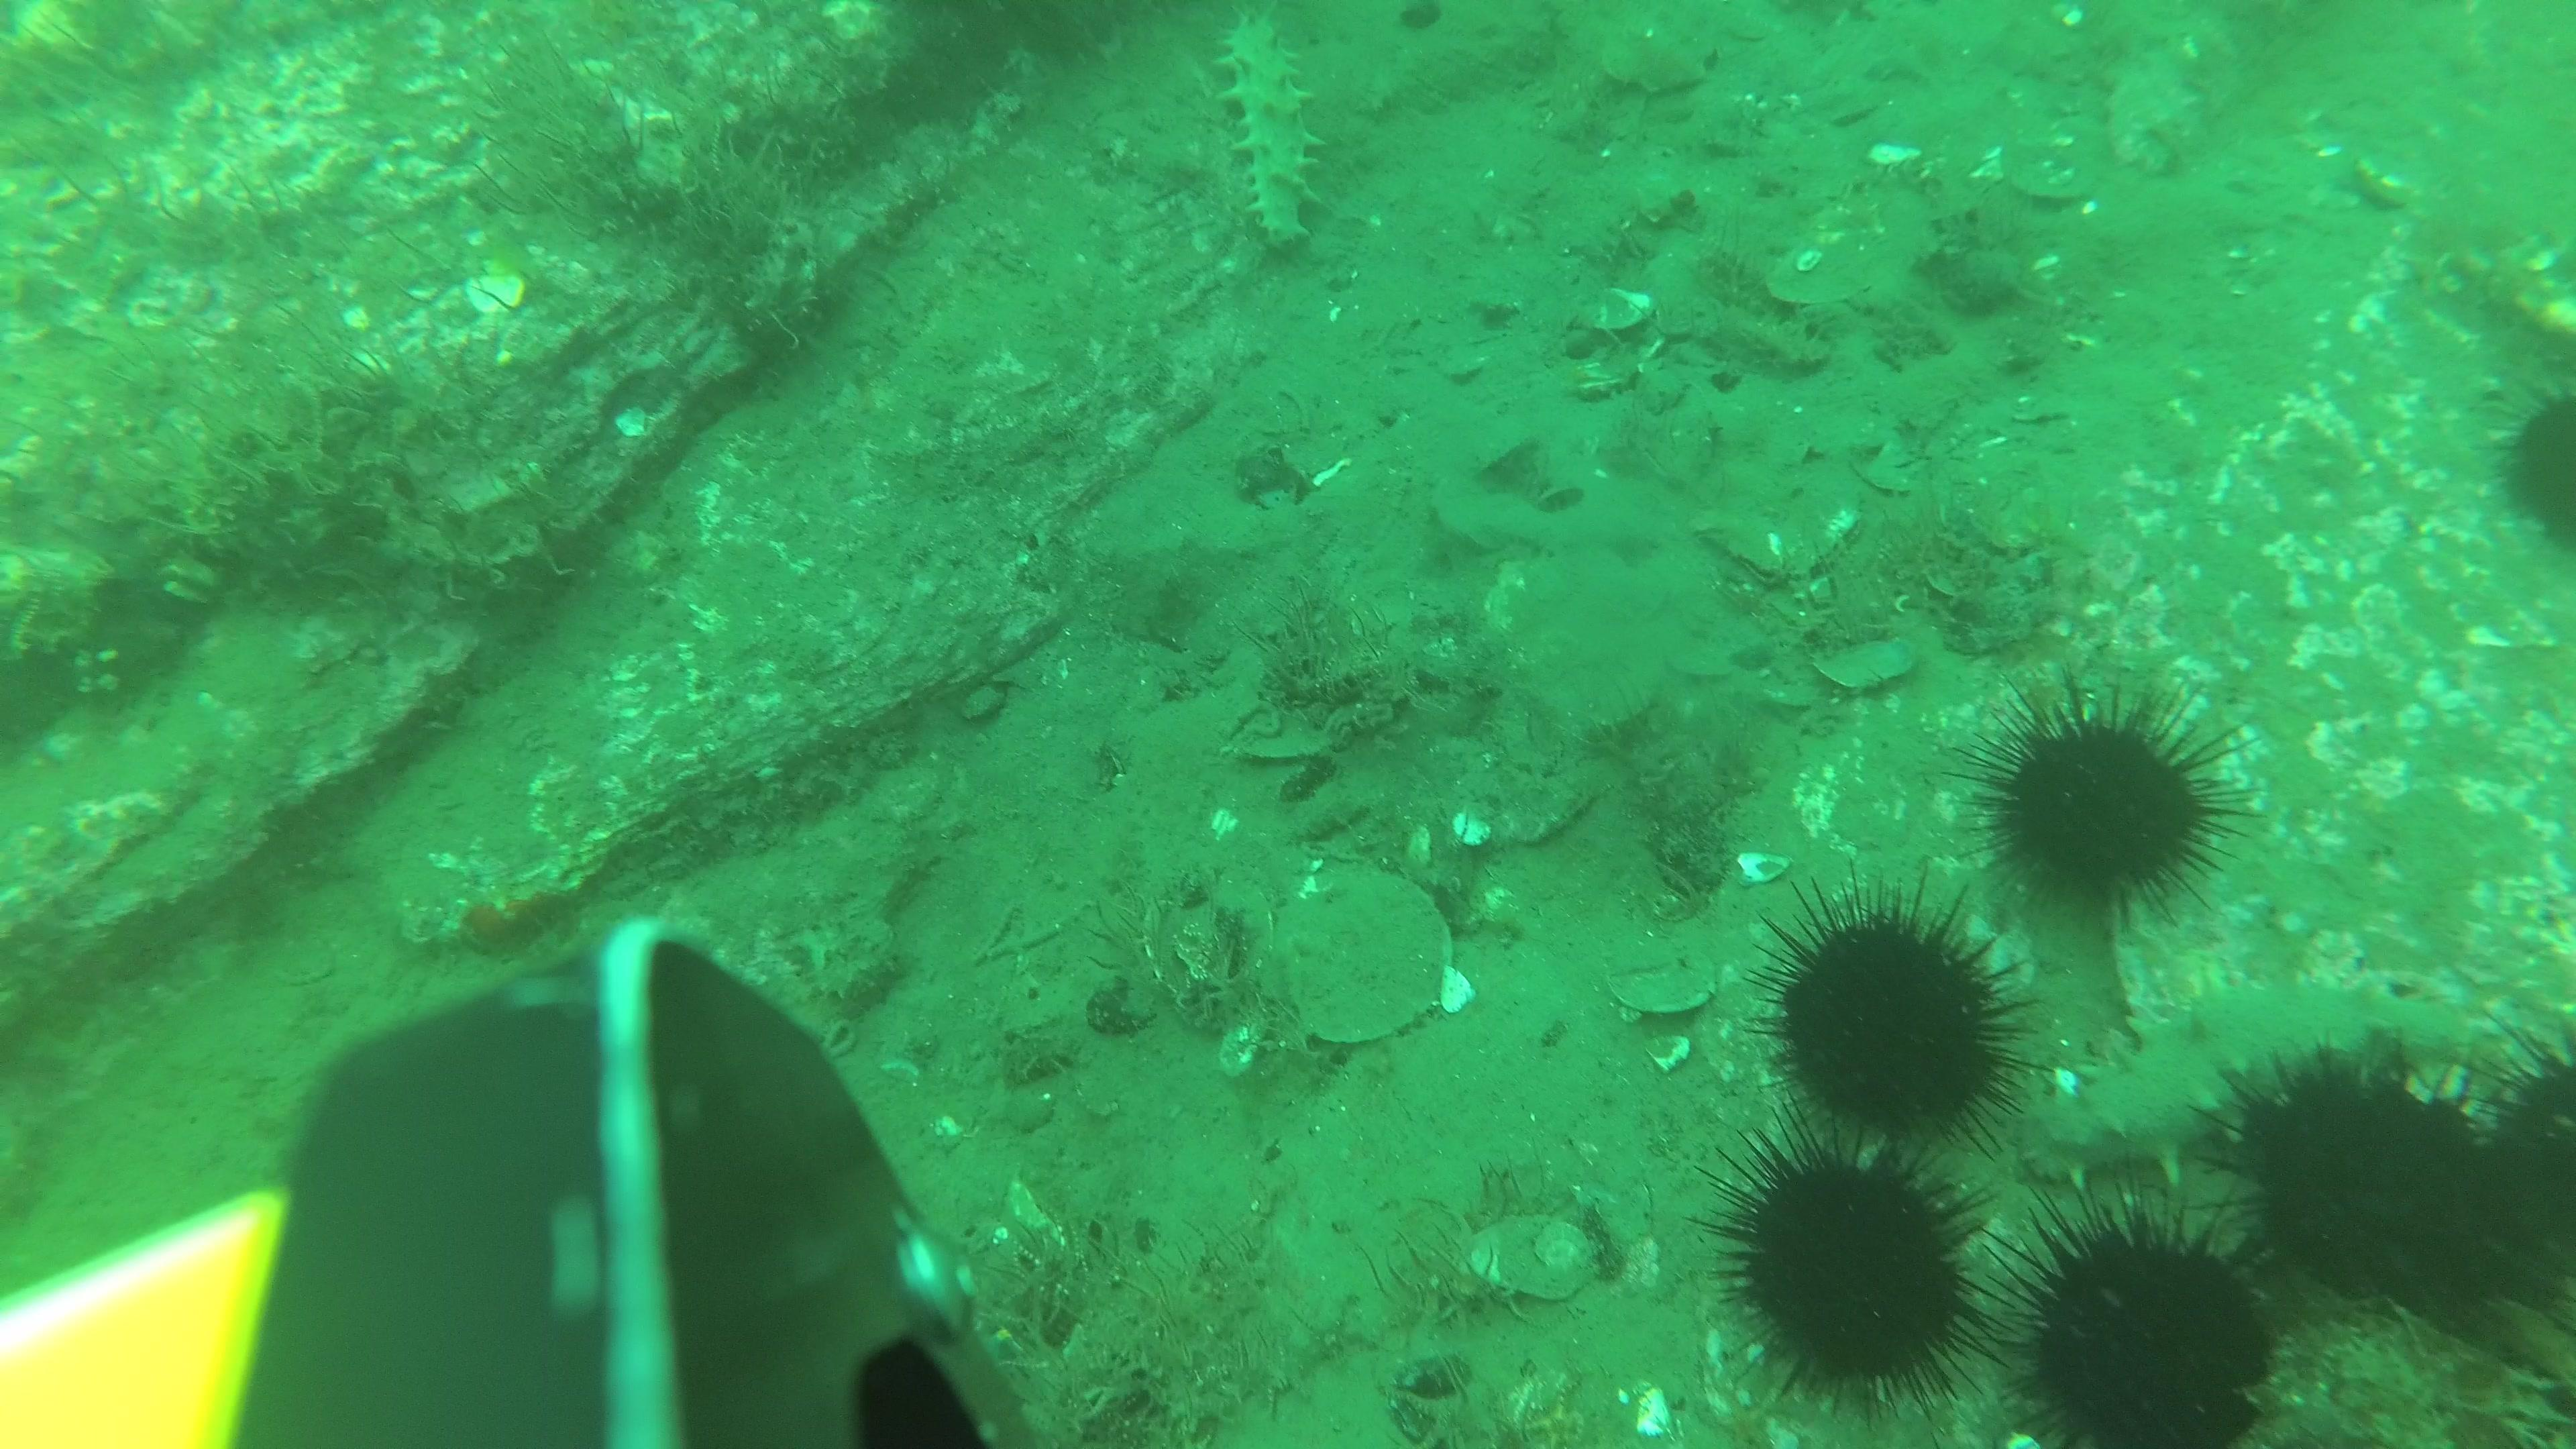echinus: (1686, 1099, 2010, 1422), (1746, 865, 2049, 1164), (1953, 667, 2258, 929), (2196, 1031, 2470, 1320), (2003, 1194, 2268, 1449), (2450, 1008, 2576, 1325), (2484, 377, 2576, 561)
holothurian: (2017, 984, 2463, 1189), (1219, 5, 1323, 244)
scallop: (1258, 865, 1454, 1049), (1465, 1210, 1596, 1304), (1614, 941, 1718, 1016), (1605, 30, 1720, 92)
